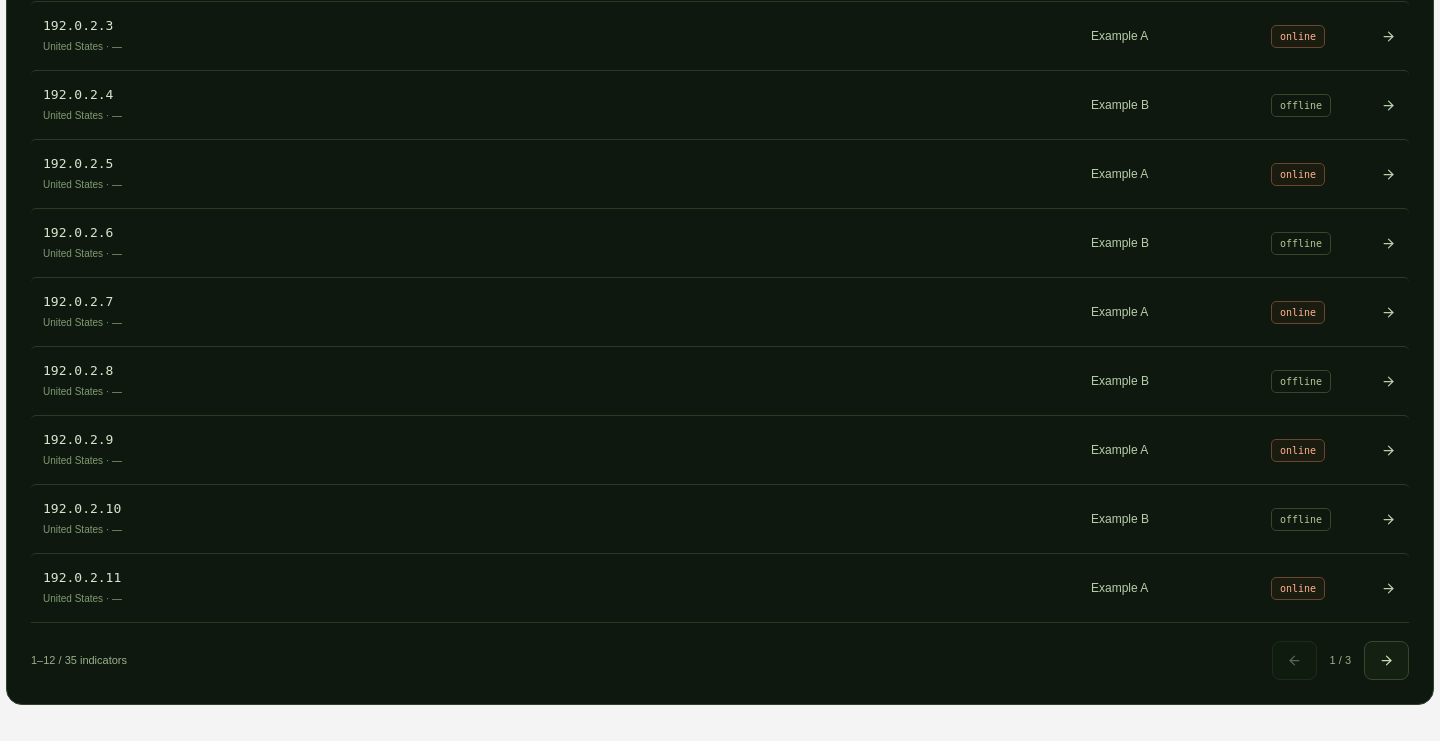
Test: provides access to all indicators and filters consistently
(page scrolled)
Click the button named "Next page" at (1386, 660), box x1=1364 y1=641 x2=1409 y2=680
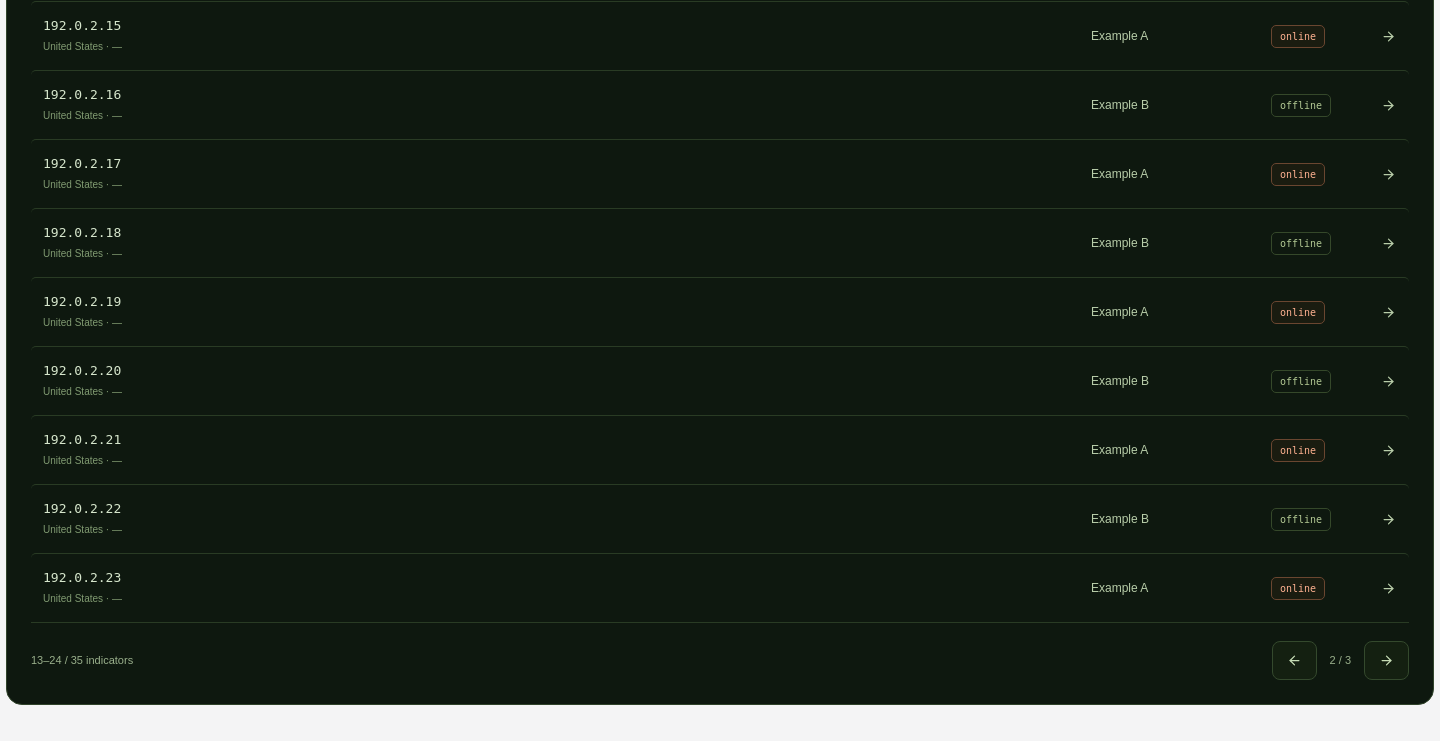
Click the button named "Next page" at (1386, 660), box x1=1364 y1=641 x2=1409 y2=680
(page scrolled)
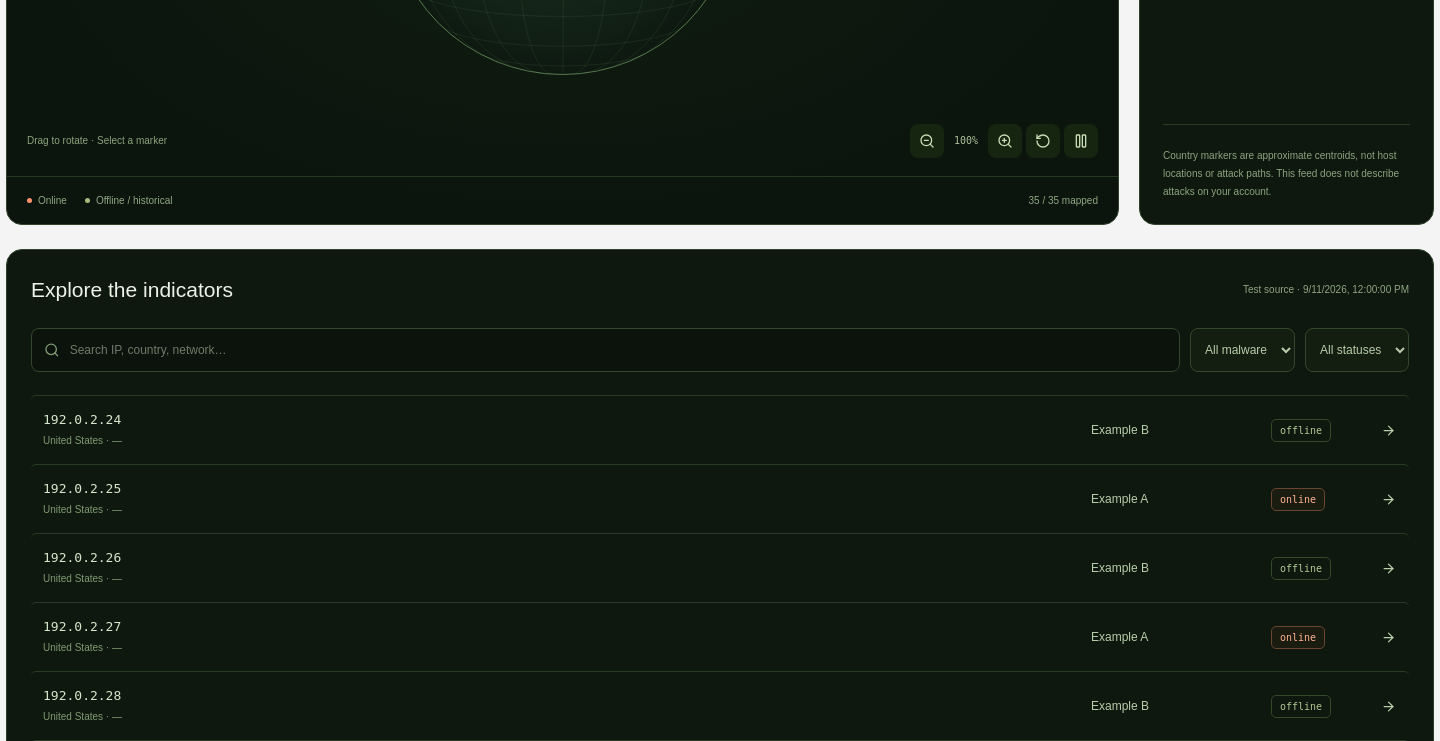
Select "Online" in the dropdown named "Filter status" at (1357, 350), box x1=1305 y1=328 x2=1409 y2=372
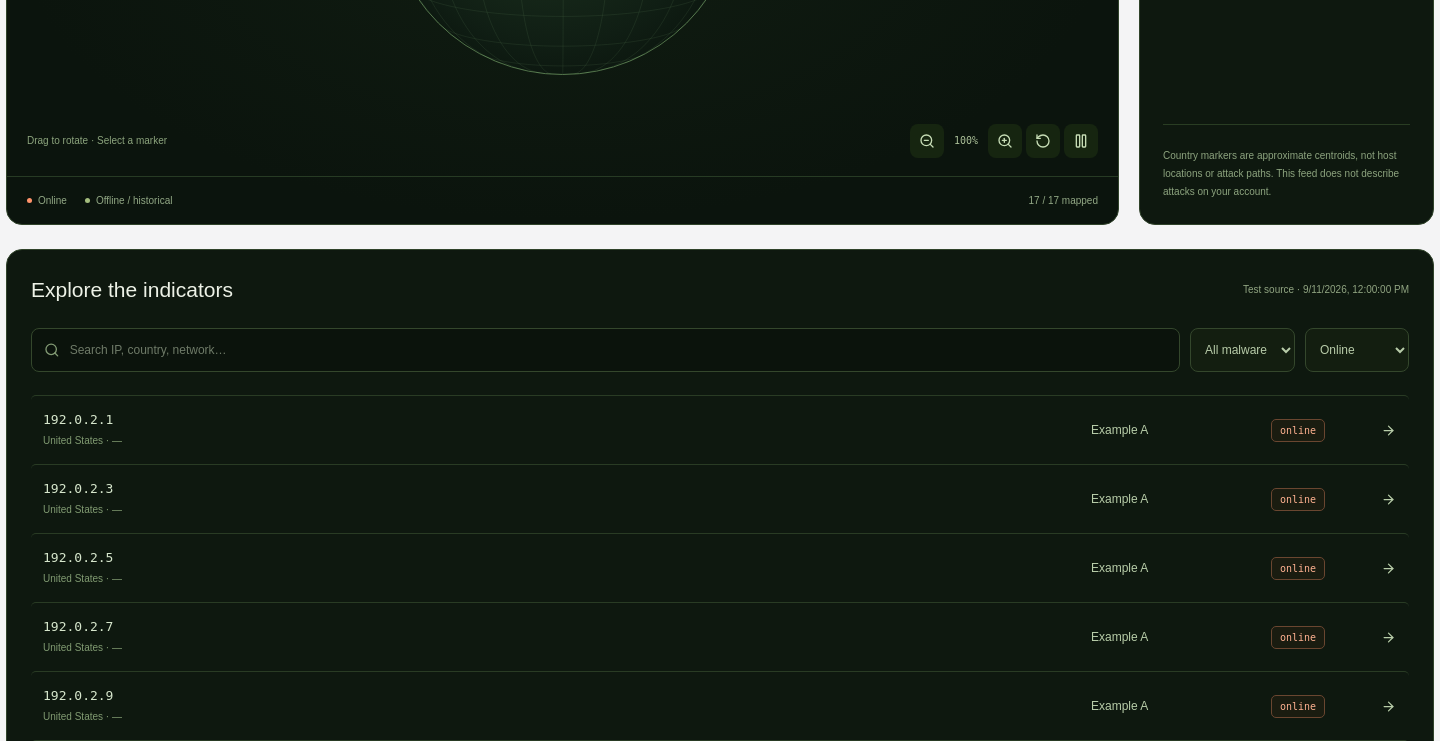
Expected: the text "192.0.2.1" is shown, x1=43 y1=412 x2=114 y2=427
